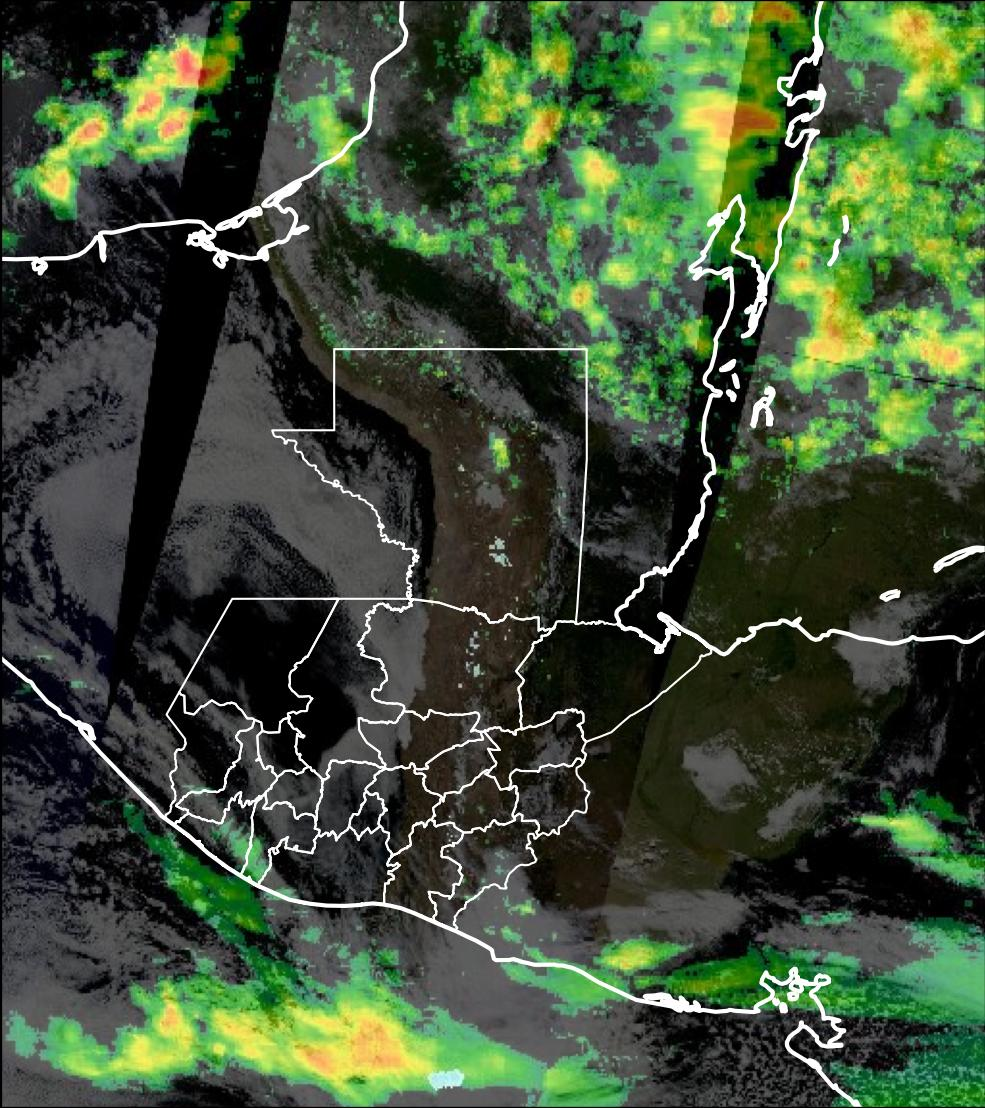precipitacion: (679, 88, 784, 157), (164, 38, 232, 97)
